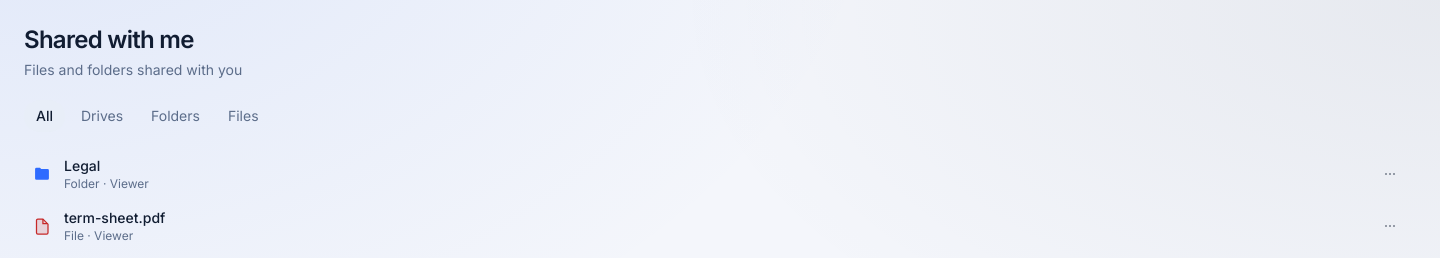
Test: DriveIncomingView › filters the list by type
This screenshot has width=1440, height=258.
Expected: the text "Legal" is shown, [64,157,100,174]
Click the button "Files" at (243, 116), box [216,100,270,132]
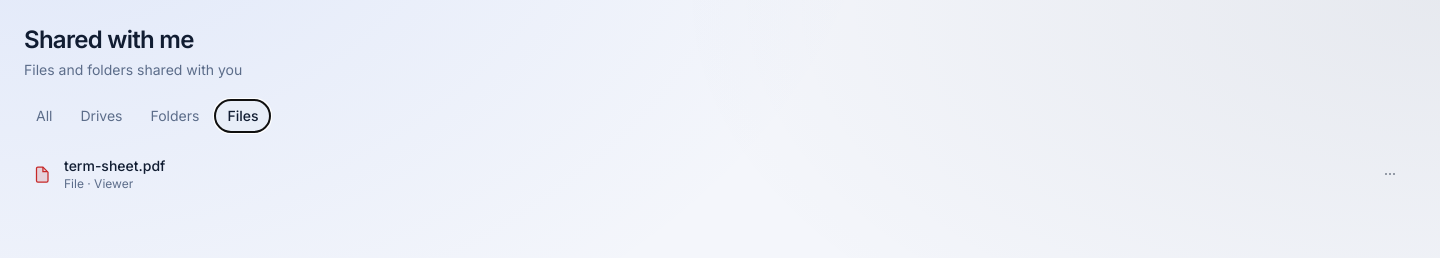
Expected: the text "term-sheet.pdf" is shown, [64,156,165,176]
Result: the button "Legal" is gone
